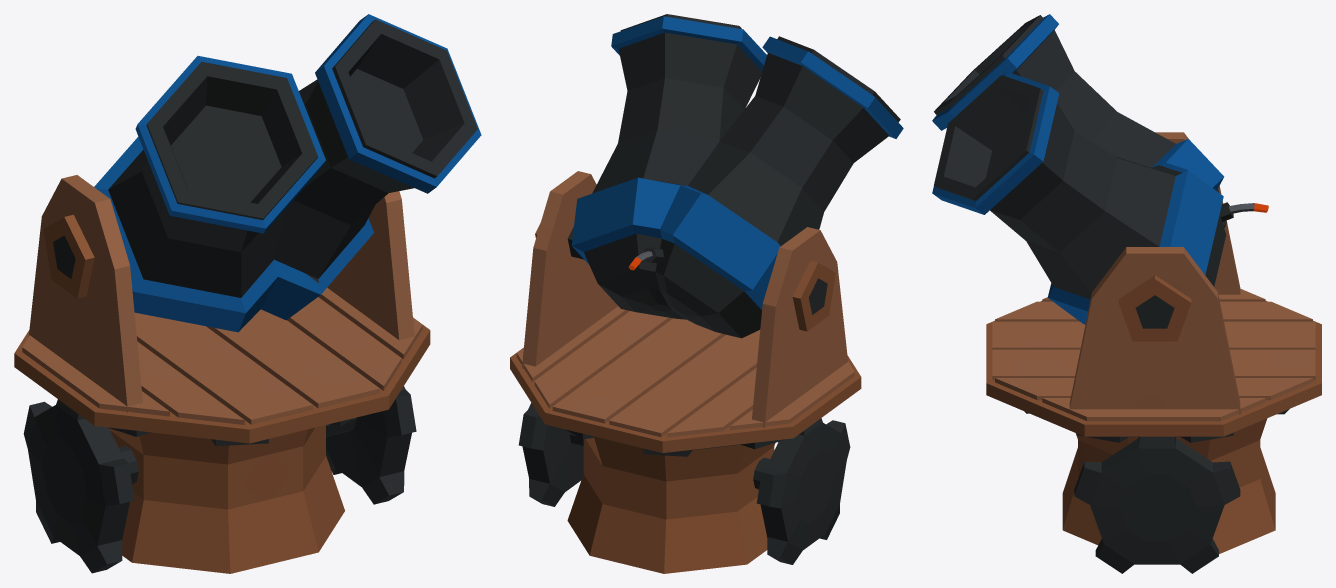
File: cannon-2.glb
3 views of the same model, side by side, from view 1: azimuth 30°, elevation 25°; view 2: azimuth 150°, elevation 25°; view 3: azimuth 270°, elevation 25° (orthographic). The views are drawn at different scales.
Visible parts, largest first — view 1: Rifle002; view 2: Rifle002; view 3: Rifle002.
Boxes of the visible parts, bbox=[...] form: Rifle002: bbox=[14, 14, 481, 573]; Rifle002: bbox=[510, 14, 903, 573]; Rifle002: bbox=[932, 14, 1321, 573].
Bounding box in the file's own units: 1.95 × 2.95 × 2.26.
Materials: 2 (2 with a texture image).
